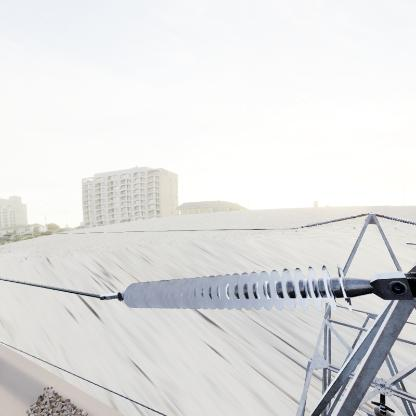insulator: (118, 262, 357, 315), (302, 212, 367, 229)
